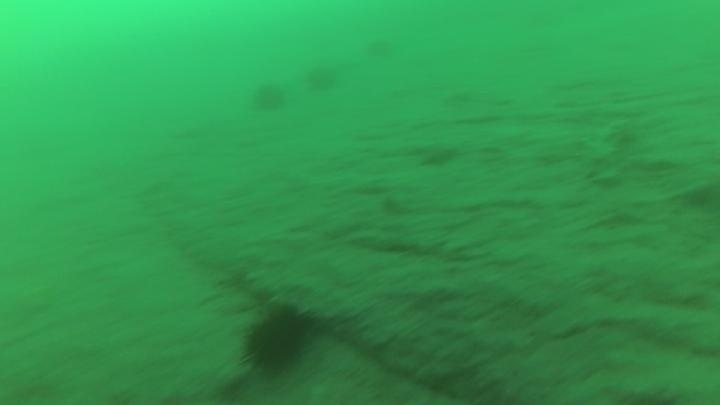echinus: (237, 300, 316, 379), (249, 78, 289, 115), (303, 61, 340, 95), (364, 34, 397, 62)
starfish: (412, 138, 462, 171)
